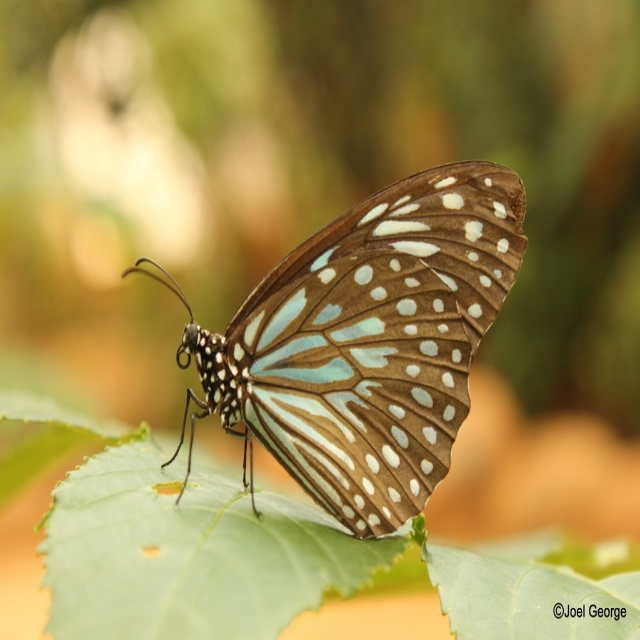Butterfly: (120, 159, 529, 541)
